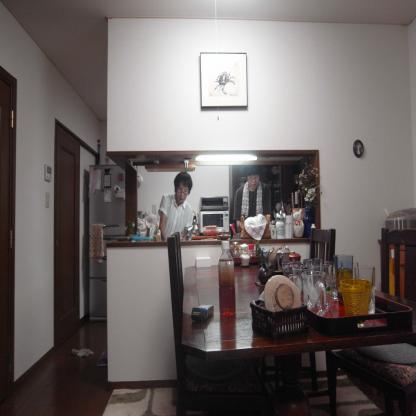door: (52, 121, 83, 347), (0, 72, 16, 408)
hinged: (9, 228, 13, 249), (11, 109, 15, 129), (8, 364, 12, 376)
